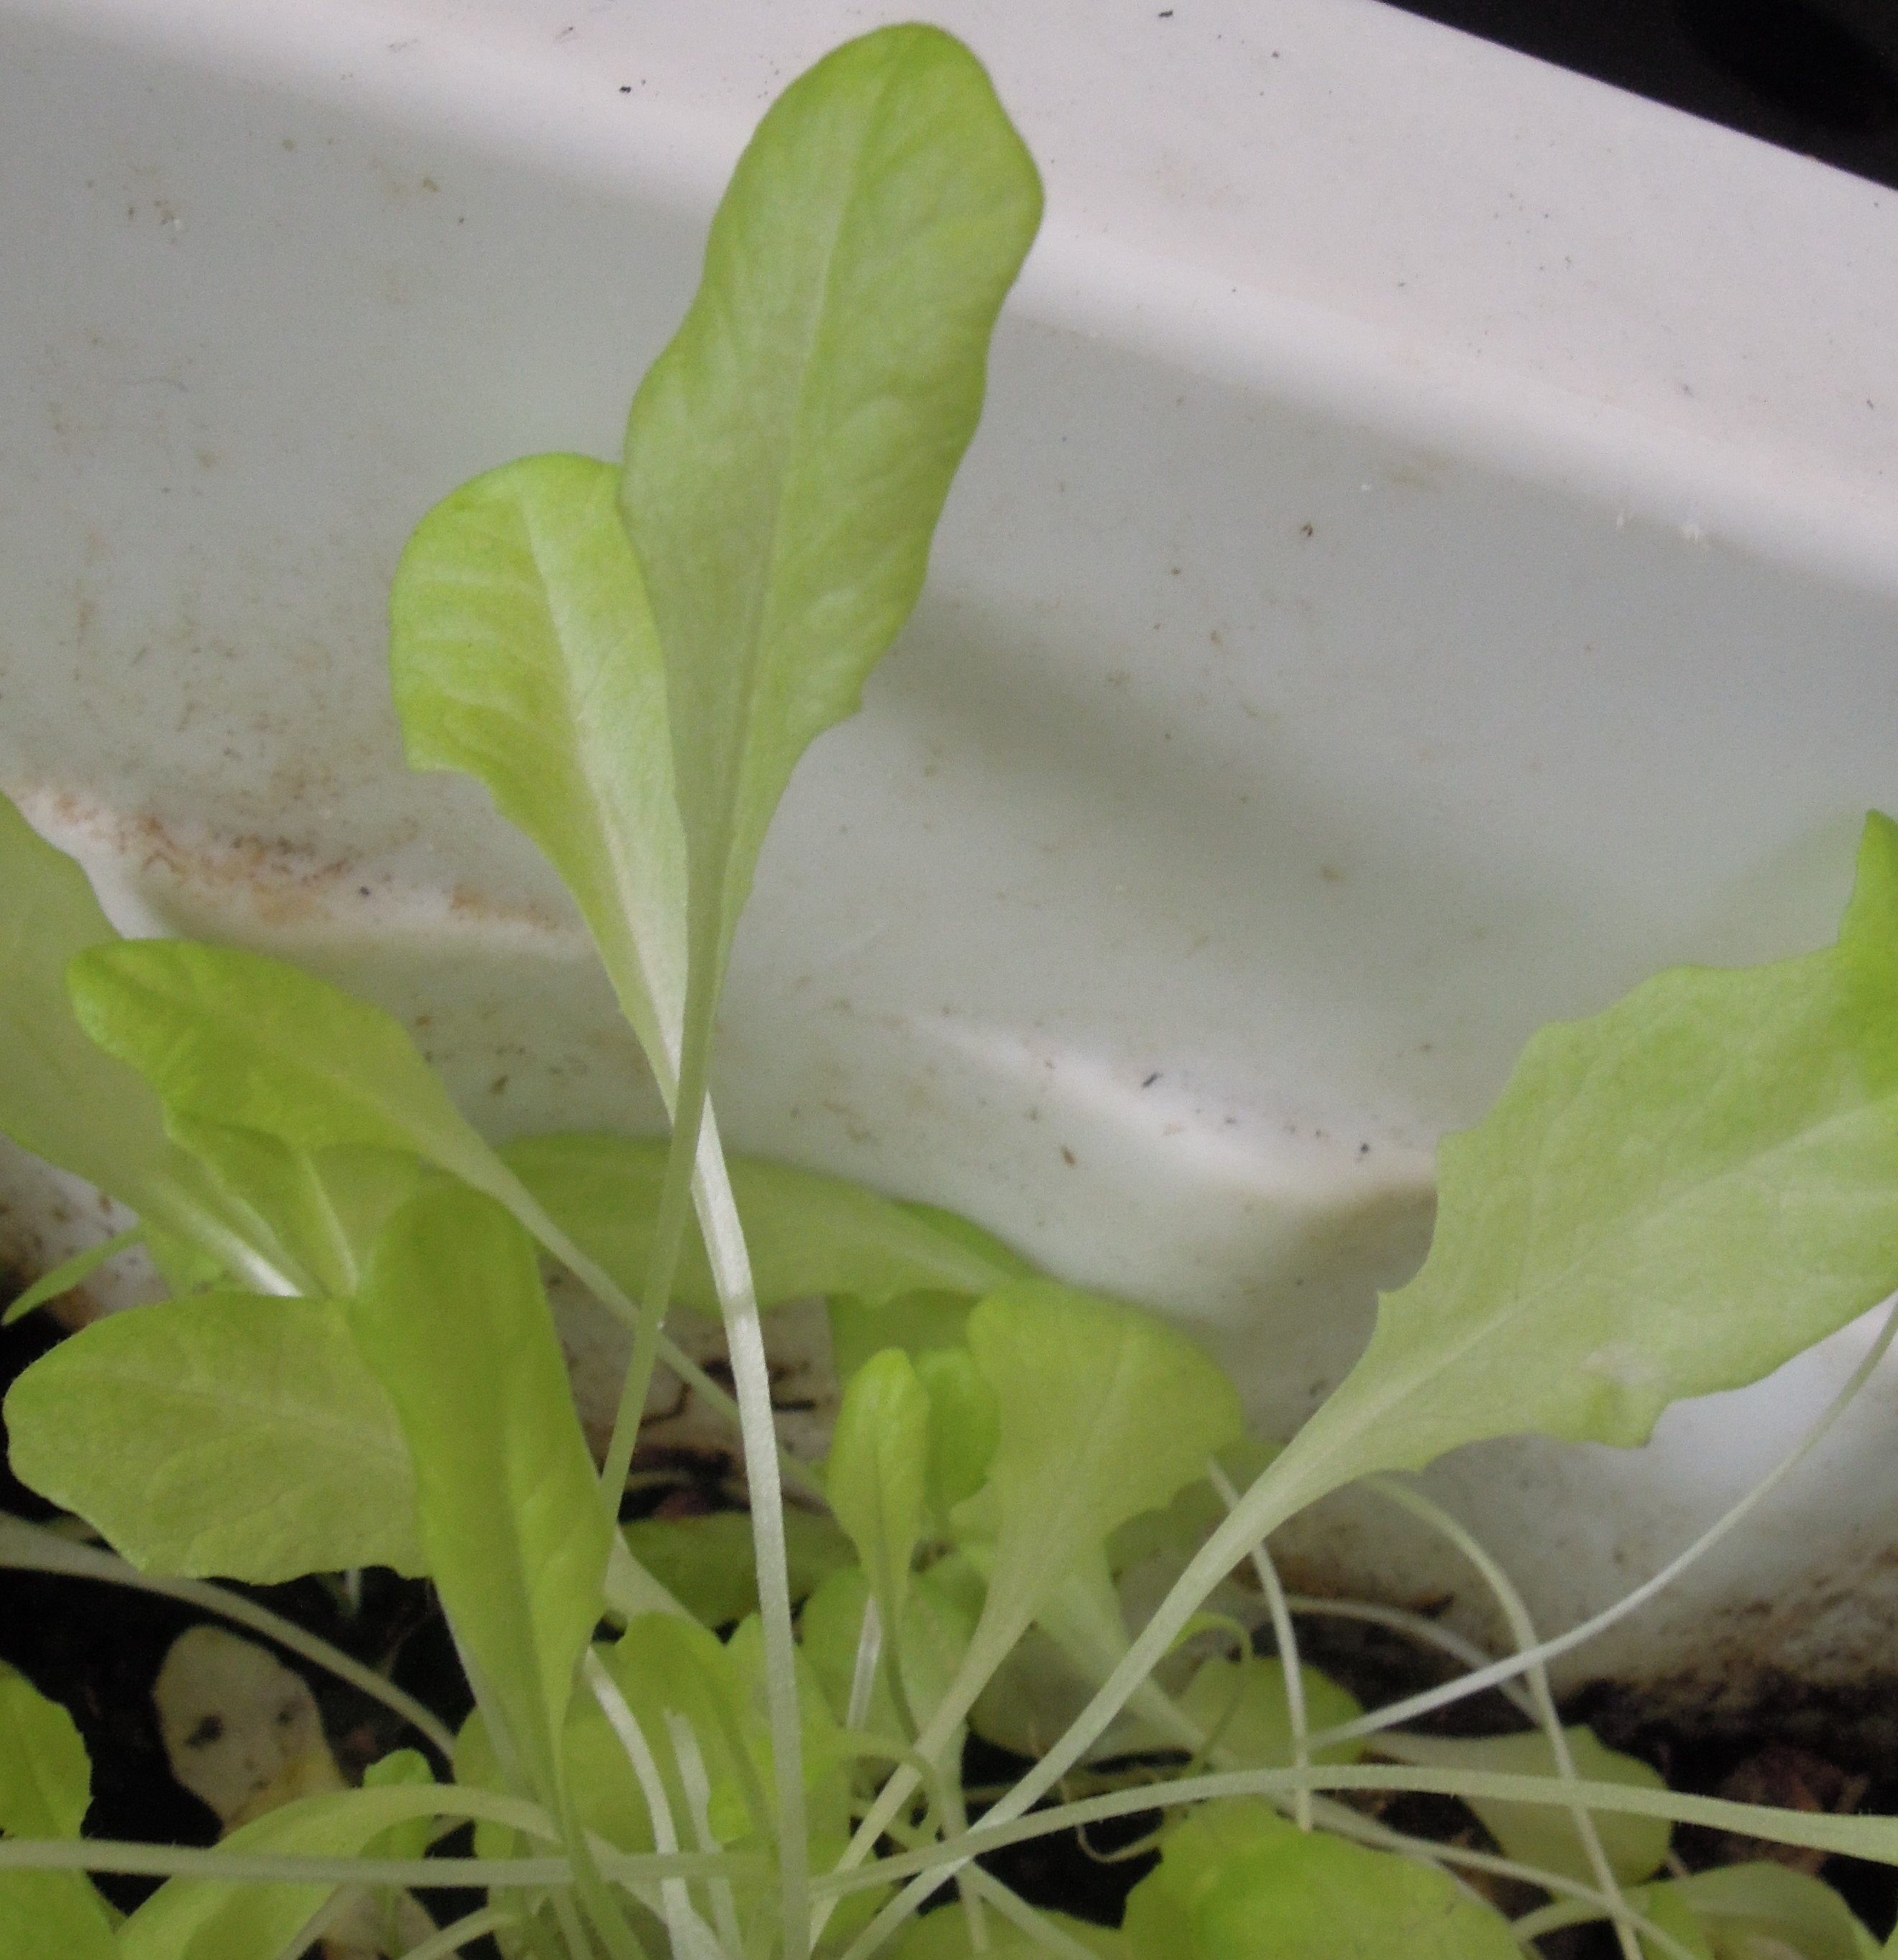weeek6: (19, 9, 1875, 1918)
